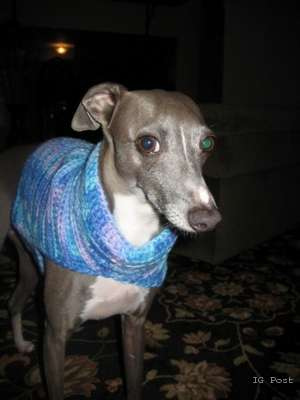dog: (1, 79, 244, 397)
